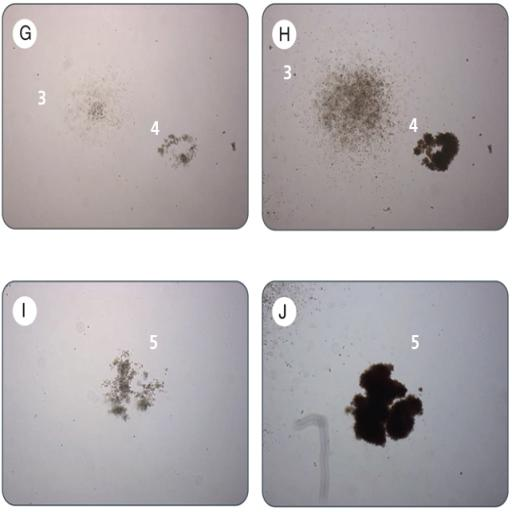CFU-GEMM: (346, 363, 423, 447), (315, 64, 391, 149), (61, 69, 128, 140), (102, 350, 164, 421), (414, 132, 459, 171), (157, 134, 196, 166)
